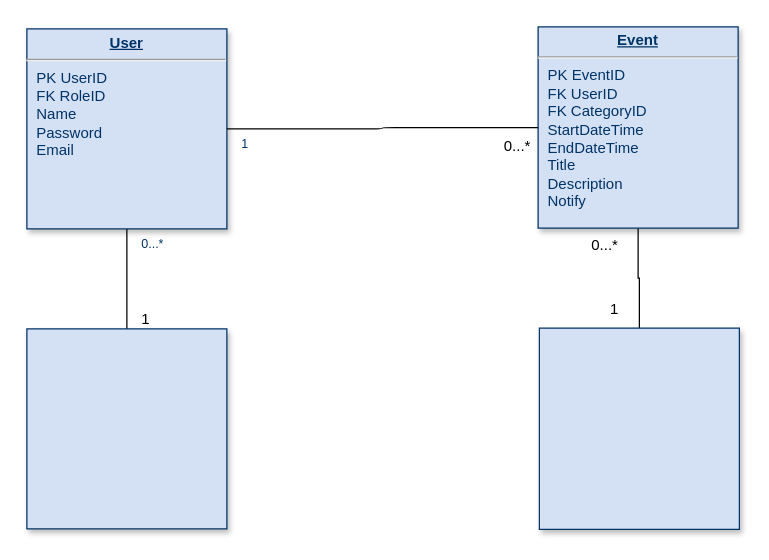
Some shapes in this 769 by 560 pixel diagram are drawn without their labels. Here are the shapes that lost their labels. From the top down, the centre of each, then its label:
At (127,430): "Role PK RoleID Type".
At (640,430): "Category PK CategoryID Type".
